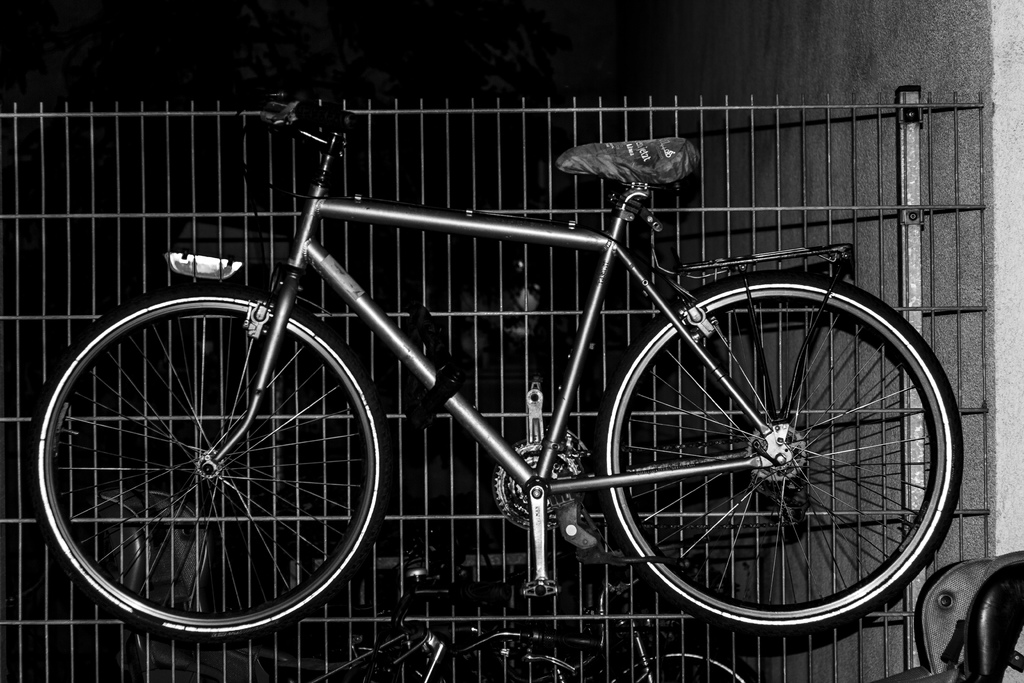Bike_toward: (27, 84, 963, 634)
